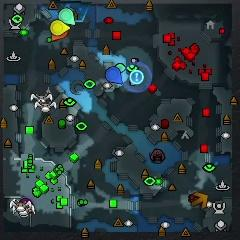Other: (129, 70, 144, 84)
p1: (105, 66, 123, 84)
p2: (59, 9, 75, 25)
p3: (20, 198, 34, 205)
p4: (50, 20, 70, 35)
p5: (51, 28, 69, 41)
x5: (192, 191, 208, 208)
